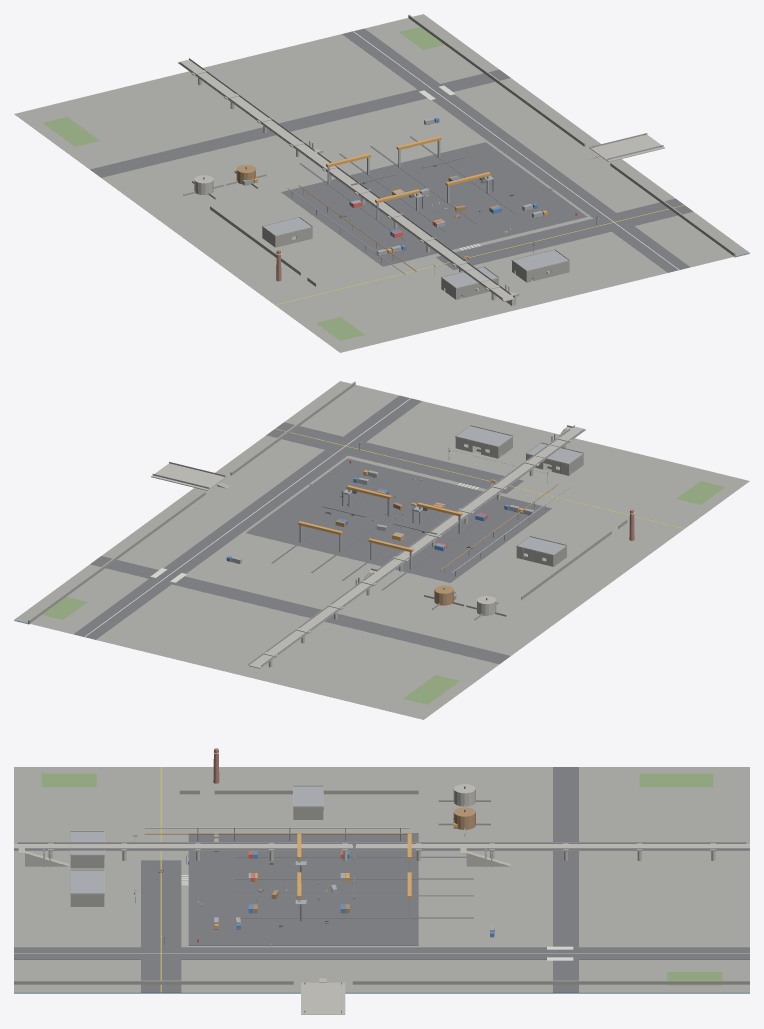
Rendered from zone_6.glb.
The picture shows the model from 3 angles, top to bottom: view 1: azimuth 30°, elevation 25°; view 2: azimuth 150°, elevation 25°; view 3: azimuth 270°, elevation 25°; orthographic projection. The views are drawn at different scales.
Visible parts, largest first — view 1: zone_akitsu_z6; view 2: zone_akitsu_z6; view 3: zone_akitsu_z6.
Boxes of the visible parts, bbox=[...] form: zone_akitsu_z6: bbox=[14, 14, 749, 352]; zone_akitsu_z6: bbox=[14, 381, 749, 719]; zone_akitsu_z6: bbox=[14, 748, 749, 1014].
Bounding box in the file's own units: 320 × 20.75 × 400.
